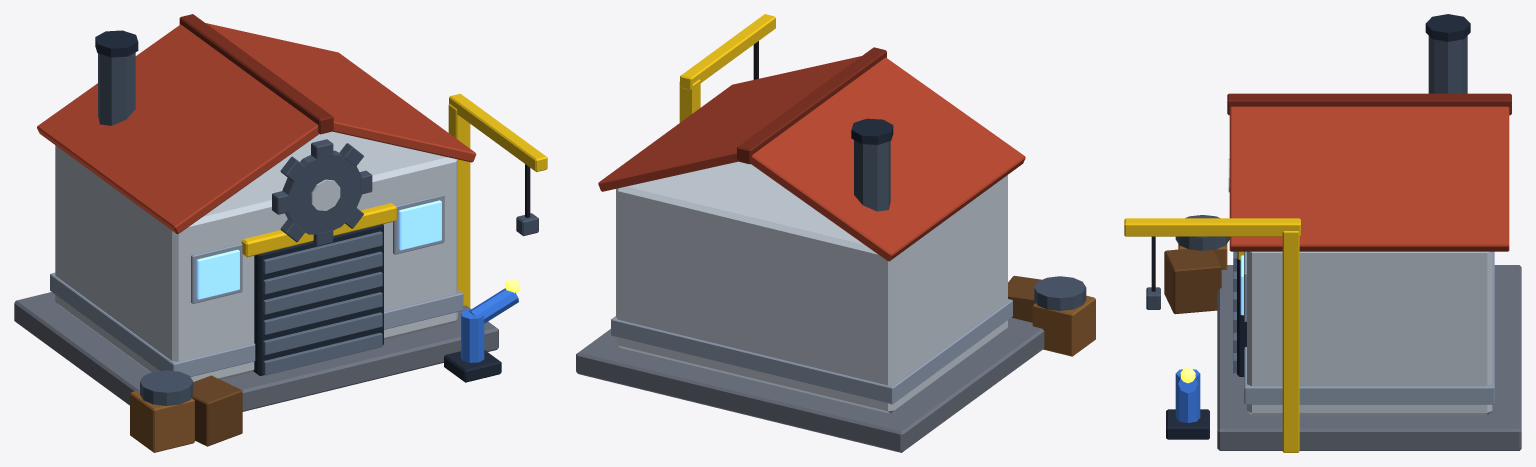
The model's file is workshop.glb.
3 renders of one model, left to right at view 1: azimuth 30°, elevation 25°; view 2: azimuth 150°, elevation 25°; view 3: azimuth 270°, elevation 25°, orthographic. The views are drawn at different scales.
Parts seen in each view (by area): view 1: g_m_cbd5e1, g_m_b4432b, g_m_6b7280, g_m_64748b, g_m_475569, g_m_1e293b, g_m_94a3b8, g_m_facc15, g_m_93c5fd_e, g_m_7a2a1a, g_m_8a5a2b, g_m_6b4423 (+1 smaller); view 2: g_m_cbd5e1, g_m_b4432b, g_m_6b7280, g_m_94a3b8, g_m_475569, g_m_7a2a1a, g_m_facc15, g_m_8a5a2b, g_m_6b4423, g_m_1e293b; view 3: g_m_b4432b, g_m_cbd5e1, g_m_6b7280, g_m_facc15, g_m_94a3b8, g_m_7a2a1a, g_m_6b4423, g_m_475569, g_m_1e293b, g_m_3b82f6, g_m_64748b.
Boxes of the visible parts, x1,y1,x2,y2 form: g_m_cbd5e1: [55, 131, 457, 381]; g_m_b4432b: [37, 23, 476, 233]; g_m_6b7280: [14, 292, 498, 411]; g_m_64748b: [263, 231, 382, 375]; g_m_475569: [98, 52, 538, 405]; g_m_1e293b: [95, 30, 501, 382]; g_m_94a3b8: [50, 194, 463, 376]; g_m_facc15: [241, 93, 547, 307]; g_m_93c5fd_e: [196, 200, 441, 299]; g_m_7a2a1a: [179, 14, 333, 134]; g_m_8a5a2b: [130, 390, 194, 452]; g_m_6b4423: [191, 375, 242, 446]; g_m_cbd5e1: [616, 161, 1007, 413]; g_m_b4432b: [598, 56, 1025, 261]; g_m_6b7280: [576, 317, 1044, 452]; g_m_94a3b8: [611, 299, 1012, 404]; g_m_475569: [854, 140, 1086, 310]; g_m_7a2a1a: [737, 47, 886, 164]; g_m_facc15: [679, 14, 775, 122]; g_m_8a5a2b: [1032, 295, 1095, 356]; g_m_6b4423: [1008, 275, 1041, 322]; g_m_1e293b: [851, 118, 893, 144]; g_m_b4432b: [1229, 106, 1509, 251]; g_m_cbd5e1: [1228, 158, 1492, 415]; g_m_6b7280: [1217, 265, 1521, 450]; g_m_facc15: [1124, 218, 1300, 452]; g_m_94a3b8: [1244, 251, 1494, 404]; g_m_7a2a1a: [1227, 93, 1511, 115]; g_m_6b4423: [1164, 248, 1221, 314]; g_m_475569: [1146, 36, 1467, 309]; g_m_1e293b: [1166, 14, 1470, 439]; g_m_3b82f6: [1175, 369, 1200, 422]; g_m_64748b: [1233, 251, 1236, 373].
Size of the model in its own units: 8.81 by 6.65 by 8.1.
